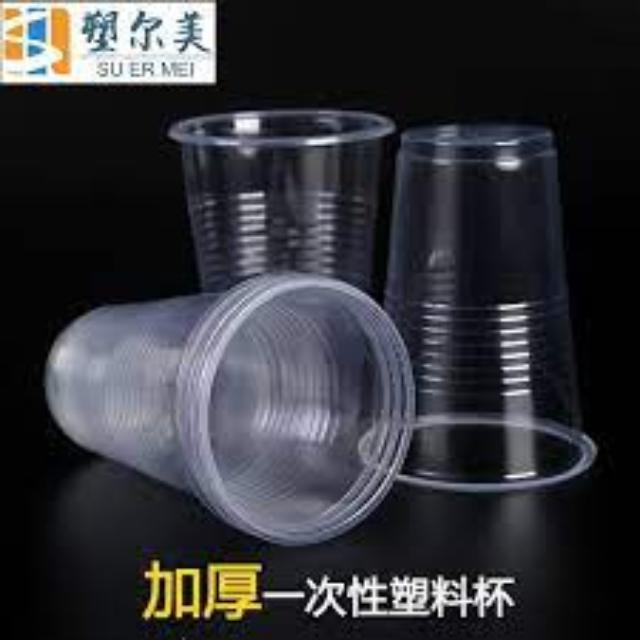Plastico descartable: (46, 274, 415, 544), (385, 124, 596, 492), (169, 109, 395, 291)
